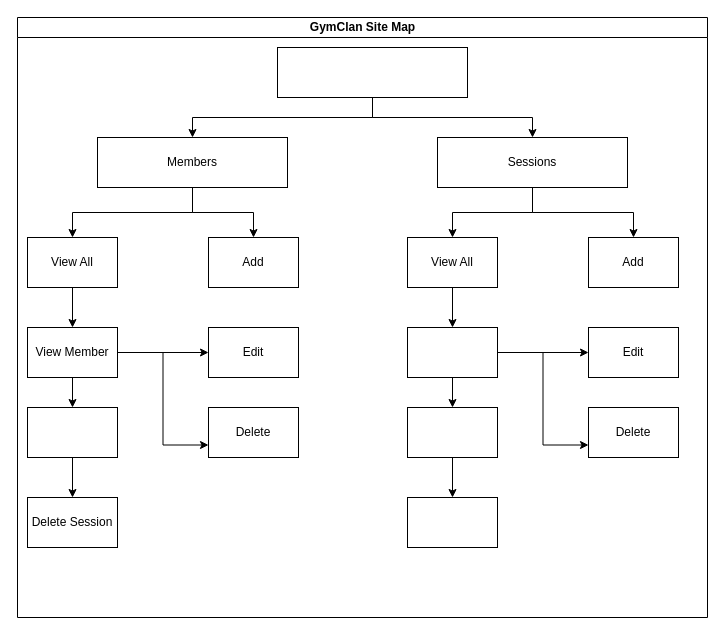
Image size: 725x635. Some labels were removed from this diagram. The shapes that lost their labels are listed below. From the top down, each one's box as (x1, y1, x2, y2) in pixels, then its label:
(276, 46, 468, 98): Home
(406, 326, 498, 378): View Session
(26, 406, 118, 458): View History
(406, 406, 498, 458): View Participants
(406, 496, 498, 548): Delete Participants
